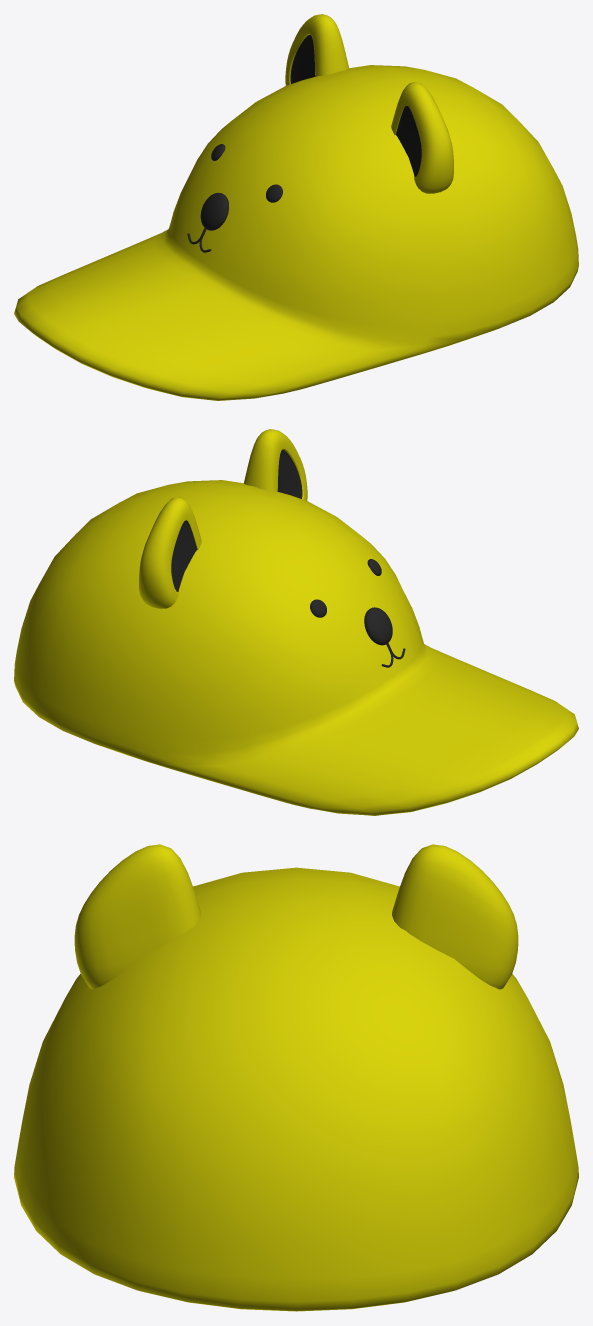
The model's file is CARTOON CAP.fbx.
The picture shows the model from 3 angles, top to bottom: view 1: azimuth 30°, elevation 25°; view 2: azimuth 150°, elevation 25°; view 3: azimuth 270°, elevation 25°; orthographic projection. The views are drawn at different scales.
Visible parts, largest first — view 1: CAP; view 2: CAP; view 3: CAP.
Part boxes in pixels (box(x1,y1,x2,y2)): CAP: box(14, 14, 578, 400); CAP: box(14, 429, 578, 815); CAP: box(14, 844, 578, 1311).
Size of the model in its own units: 234 by 105 by 146.
